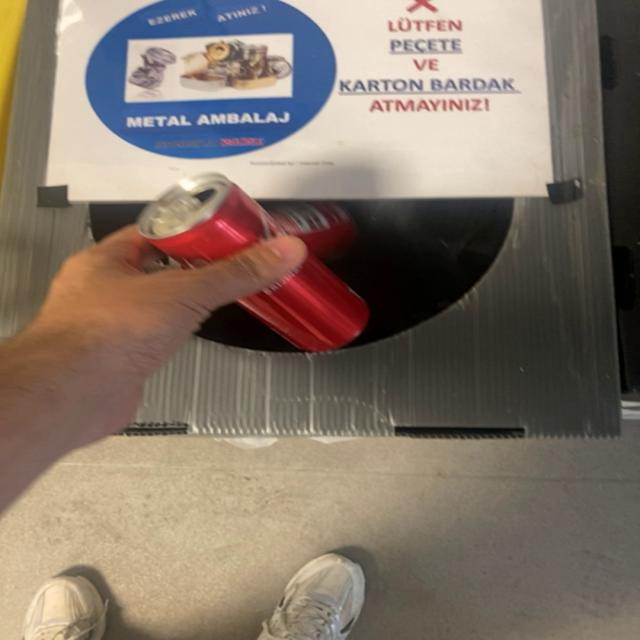bin: (123, 0, 620, 438), (1, 0, 137, 336)
metal: (136, 173, 367, 352)
